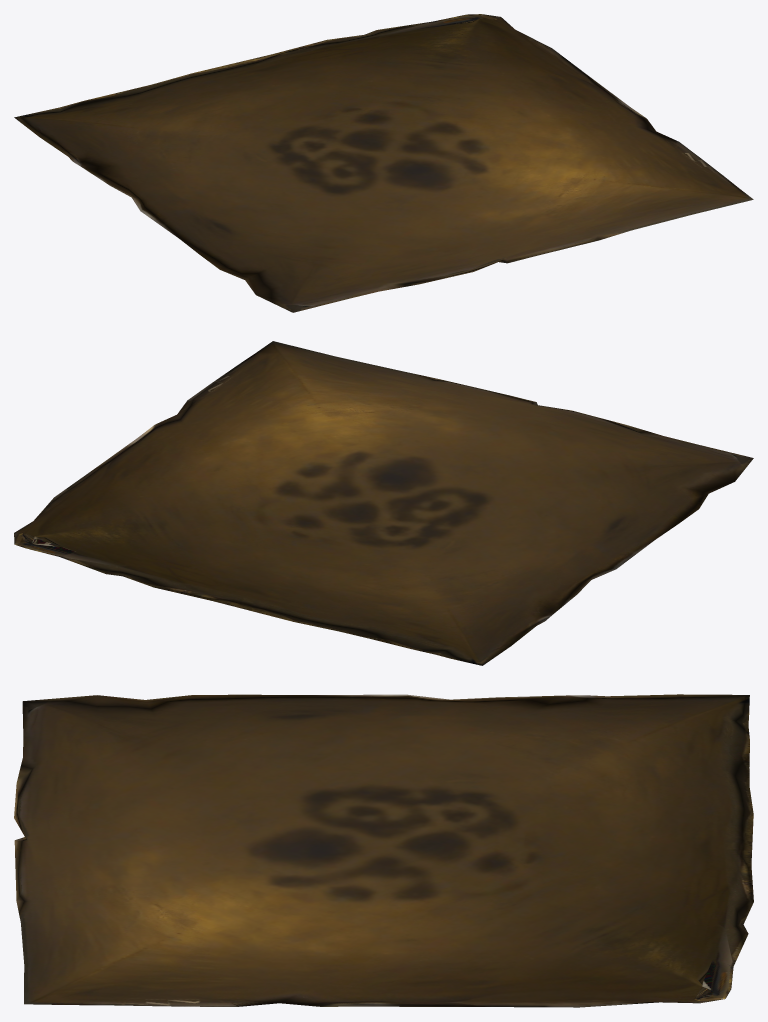
Rendered from Dungeon_FootSwitchPlat.fbx.
3 renders of one model, top to bottom at view 1: azimuth 30°, elevation 25°; view 2: azimuth 150°, elevation 25°; view 3: azimuth 270°, elevation 25°, orthographic. The views are drawn at different scales.
Parts seen in each view (by area): view 1: input; view 2: input; view 3: input.
Boxes of the visible parts, x1=… form: input: x1=14, y1=14, x2=753, y2=312; input: x1=14, y1=341, x2=753, y2=665; input: x1=14, y1=694, x2=753, y2=1007.
Size of the model in its own units: 157 by 10 by 157.
Materials: 1 (1 with a texture image).
